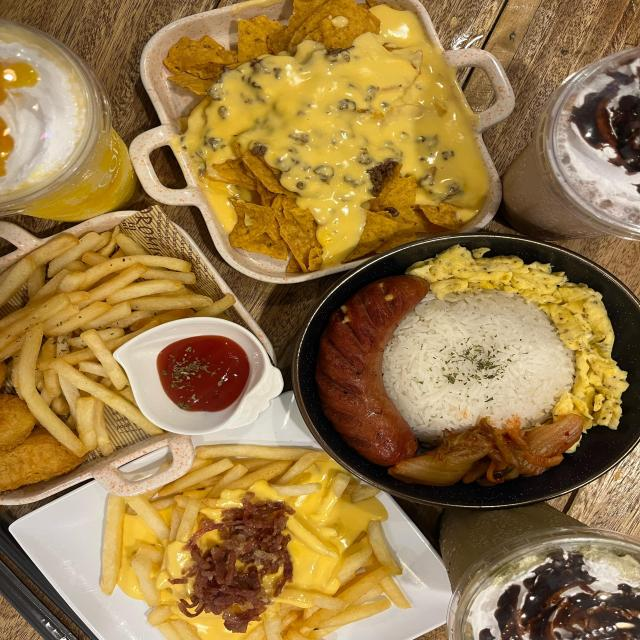Chicken -Chicken Inasal-: (386, 283, 569, 432)
